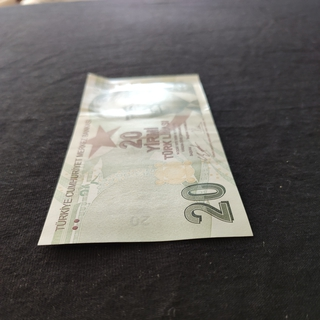20TLFront: (37, 72, 253, 245)
